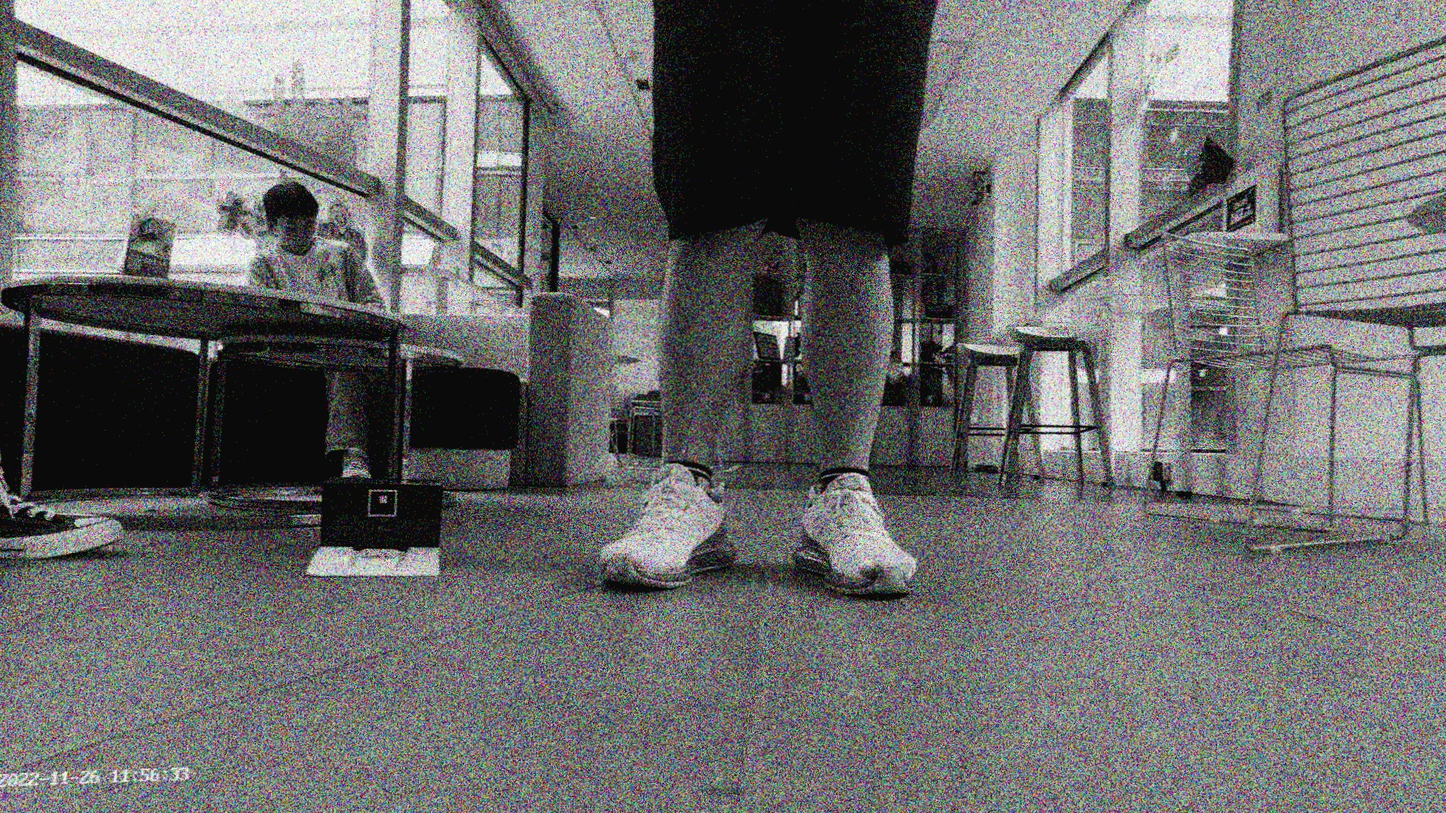face: (274, 203, 316, 251)
person: (594, 0, 944, 595), (239, 177, 421, 479)
